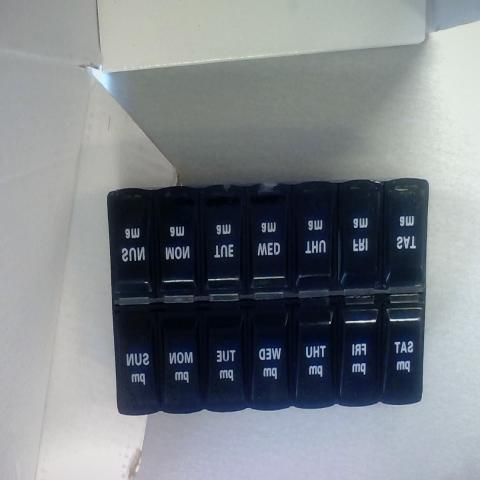FRI-am: (345, 190, 381, 284)
FRI-pm: (341, 294, 379, 402)
MON-am: (153, 195, 197, 298)
MON-pm: (162, 302, 202, 413)
SAT-am: (386, 188, 426, 284)
SAT-pm: (384, 295, 422, 405)
SUN-am: (115, 199, 150, 296)
SUN-pm: (119, 301, 157, 413)
THU-am: (296, 188, 336, 284)
THU-pm: (294, 301, 334, 409)
TUE-am: (202, 196, 242, 299)
TUE-pm: (202, 302, 244, 413)
WED-am: (247, 190, 288, 294)
WED-pm: (250, 297, 292, 409)
